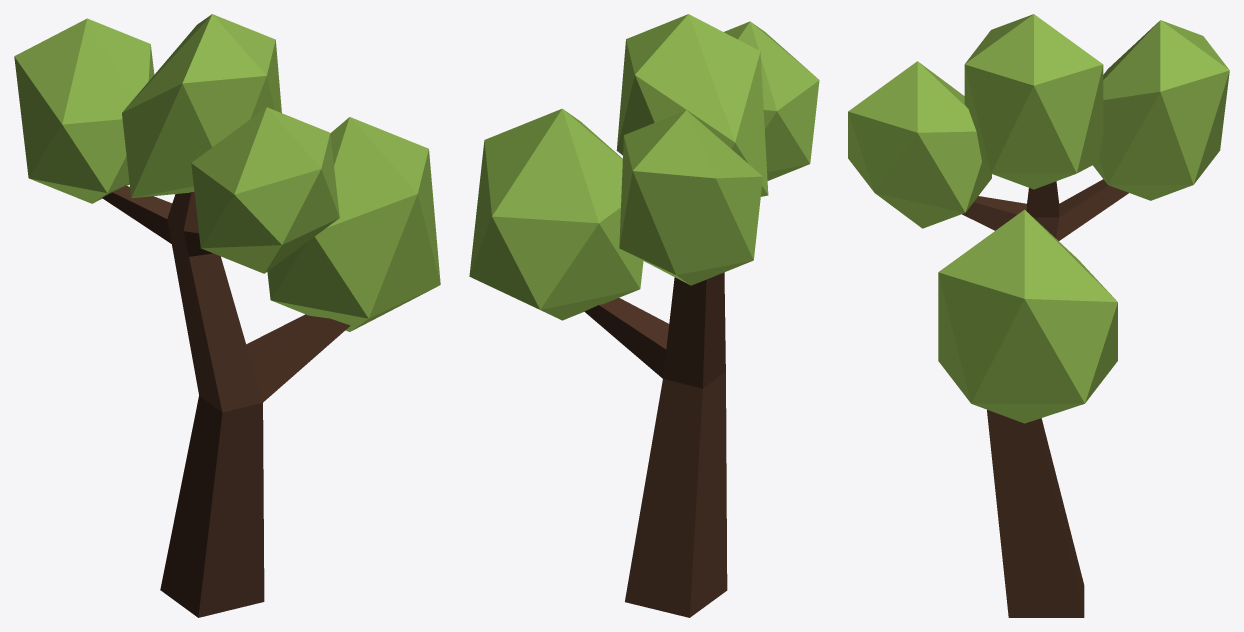
Rendered from tree.fbx.
3 views of the same model, side by side, from view 1: azimuth 30°, elevation 25°; view 2: azimuth 150°, elevation 25°; view 3: azimuth 270°, elevation 25° (orthographic).
Visible parts, largest first — view 1: Cube; view 2: Cube; view 3: Cube.
Boxes of the visible parts, box(x1,y1,x2,y2) form: Cube: box(14, 14, 440, 617); Cube: box(469, 14, 819, 617); Cube: box(848, 14, 1229, 617).
Size of the model in its own units: 188 by 314 by 186.
